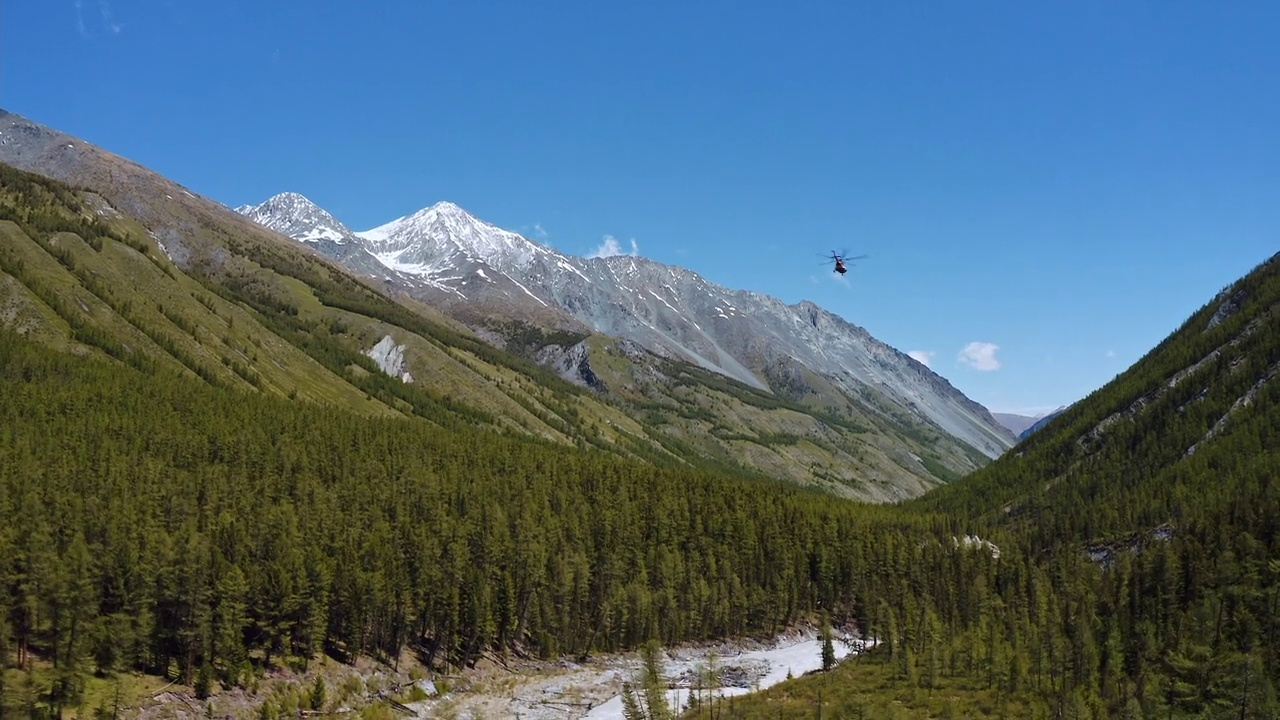heli: (815, 248, 867, 275)
